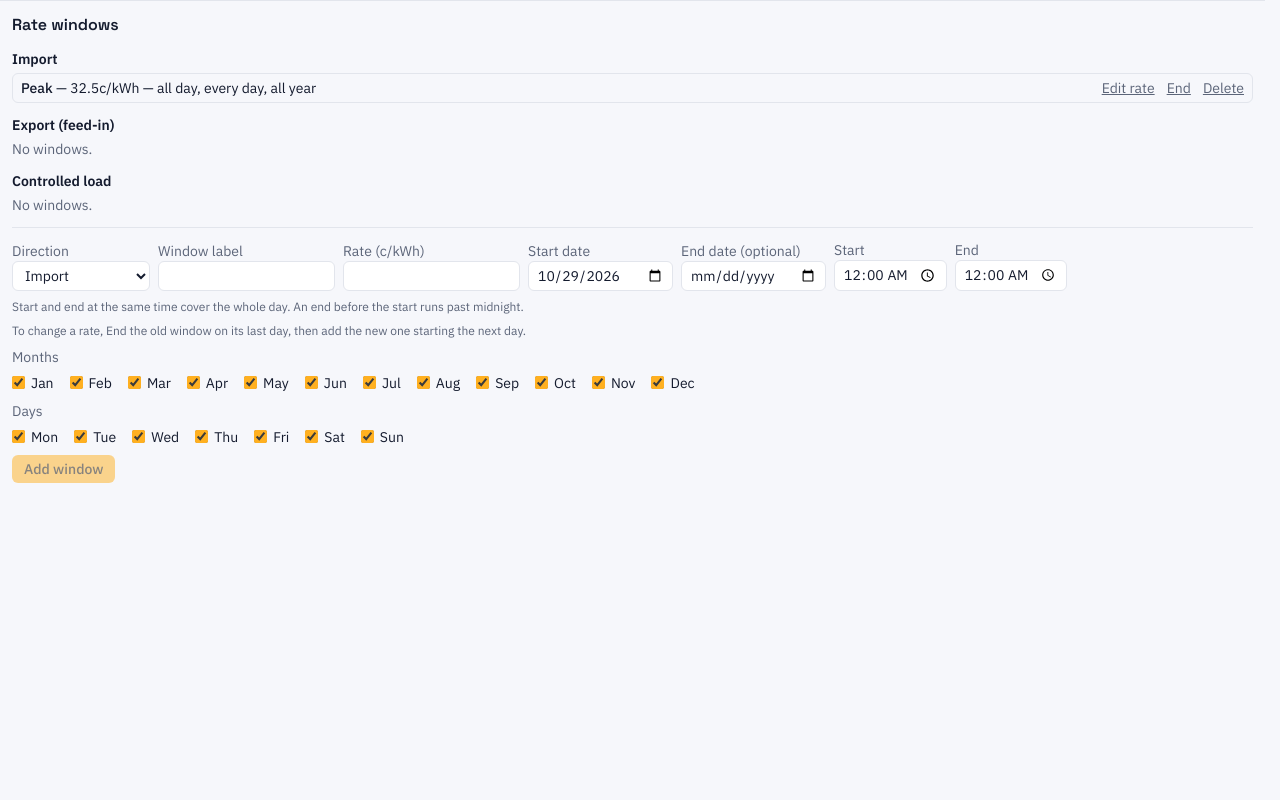
Test: RateWindowsPanel › Edit rate › shows the server's message in the one alert when saving fails
Click the button with aria-label "Edit rate of Peak" at (1128, 88), box [1102,78,1155,98]
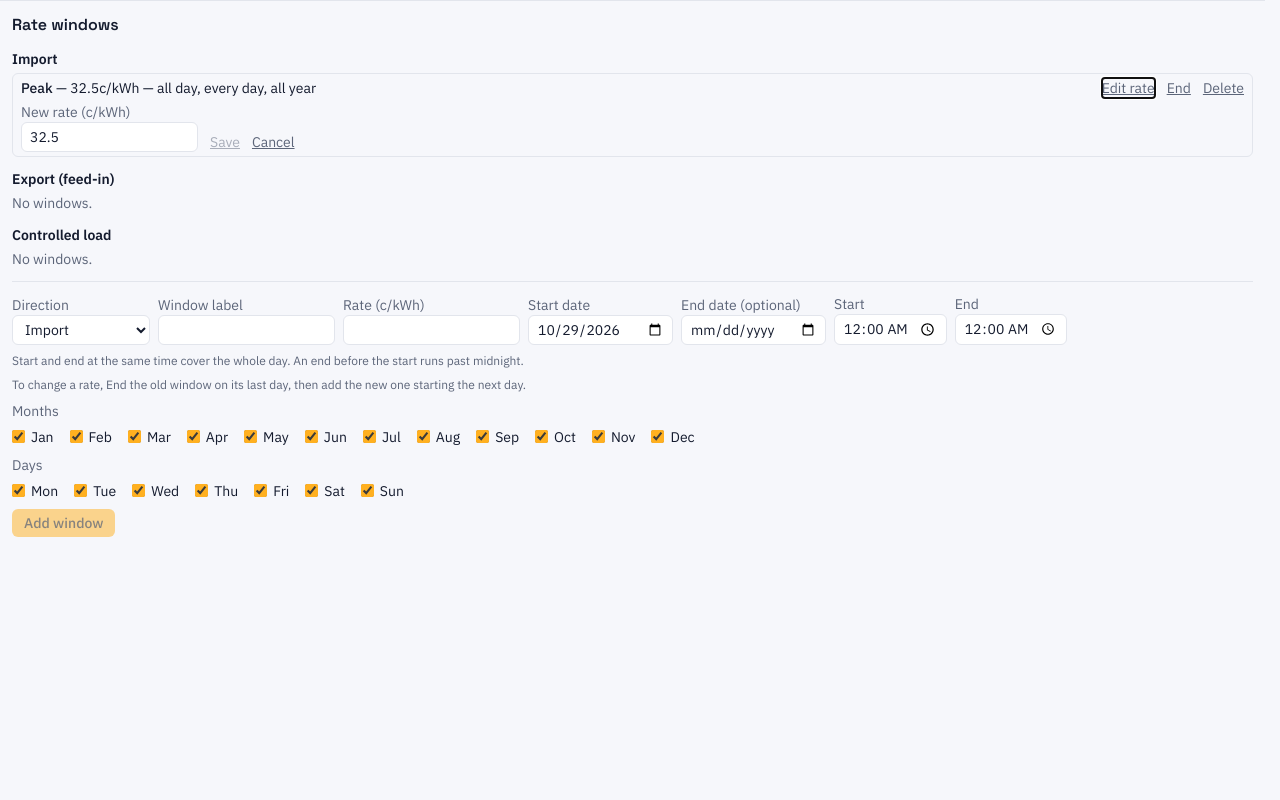
Replace the text in the number field labelled "New rate (c/kWh)" with "40" at (110, 137), box [21,122,198,152]
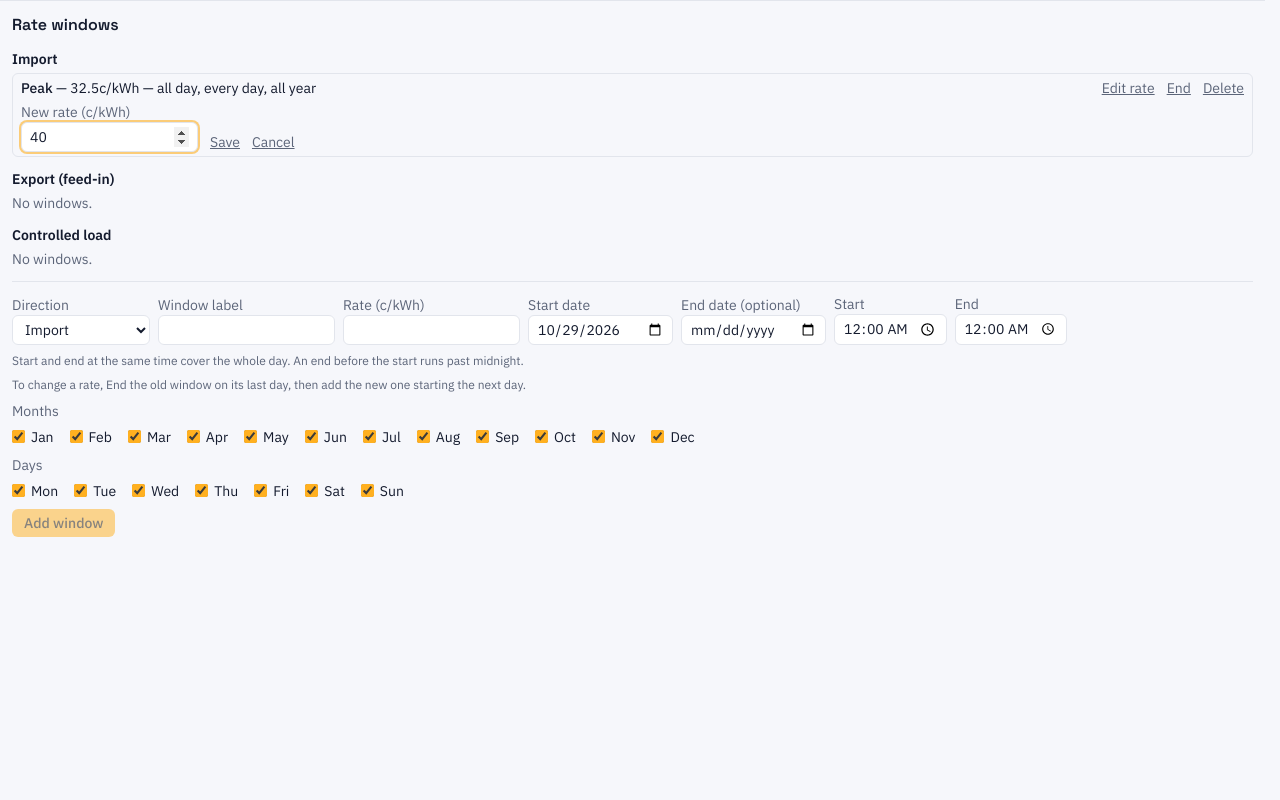
Click the button "Save" at (225, 142), box [210,132,240,152]
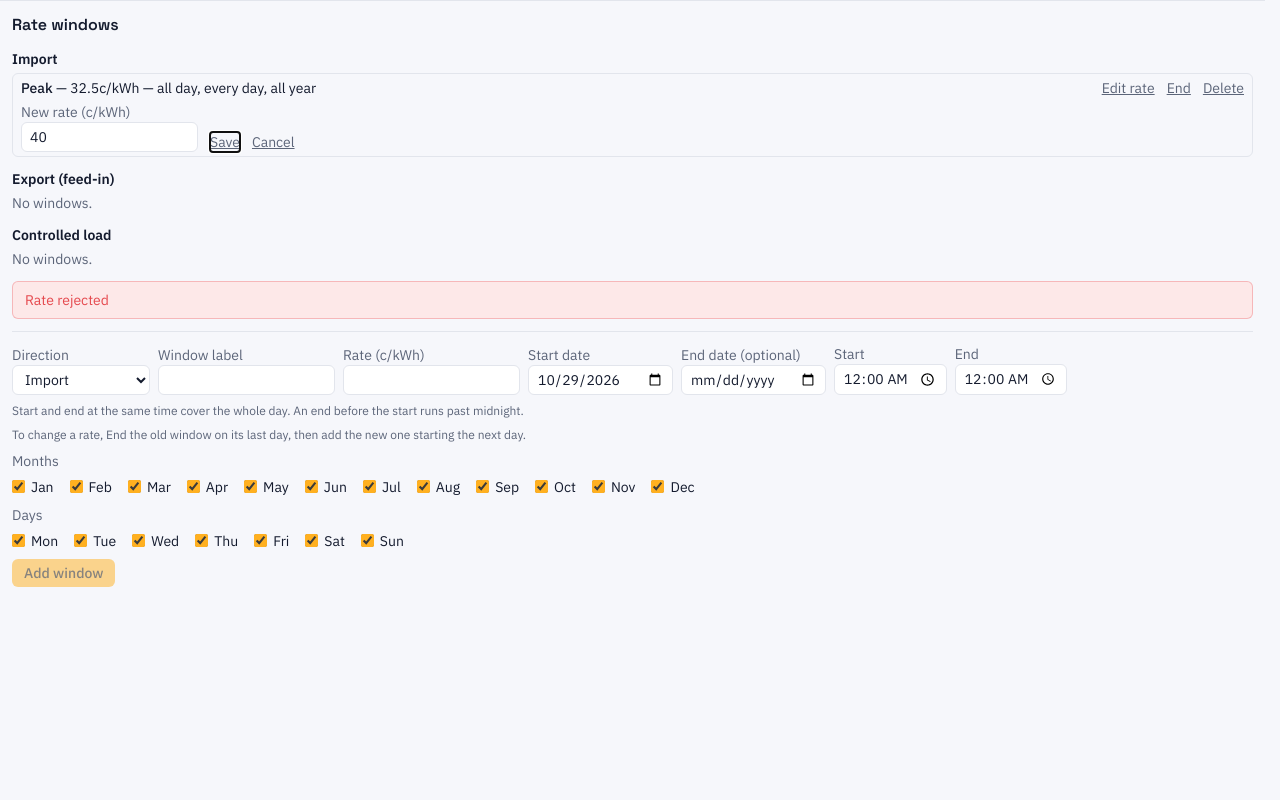
Expected: the message reads "Rate rejected", [25,291,109,309]
Expected: the number of messages is 1, [12,281,1253,319]
